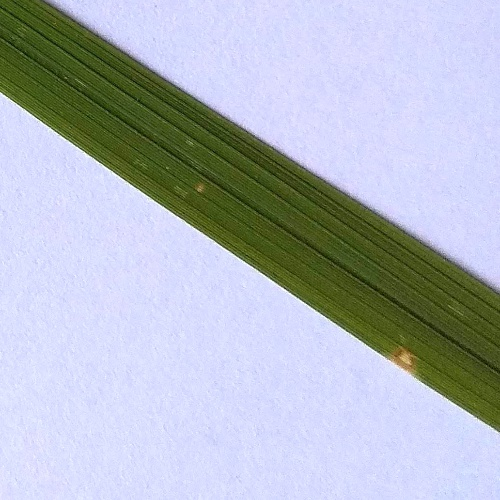Busuk Leher: (382, 338, 428, 377), (185, 174, 207, 201)
